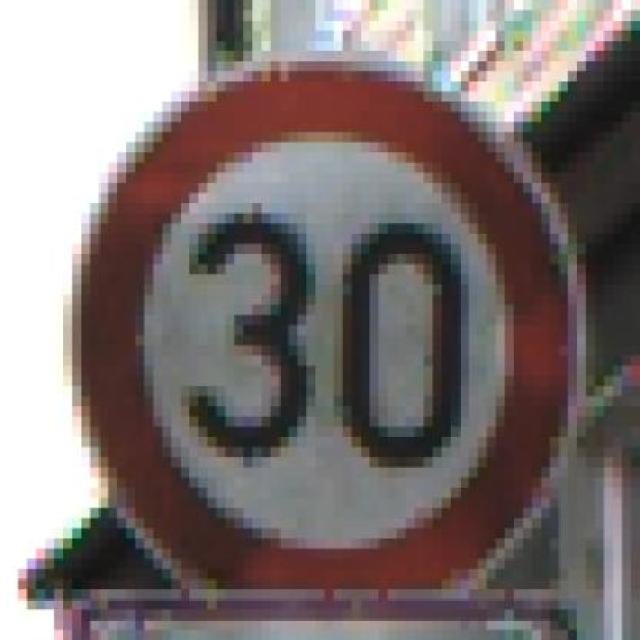Speed Limit 30 KMPh: (36, 30, 613, 630)
